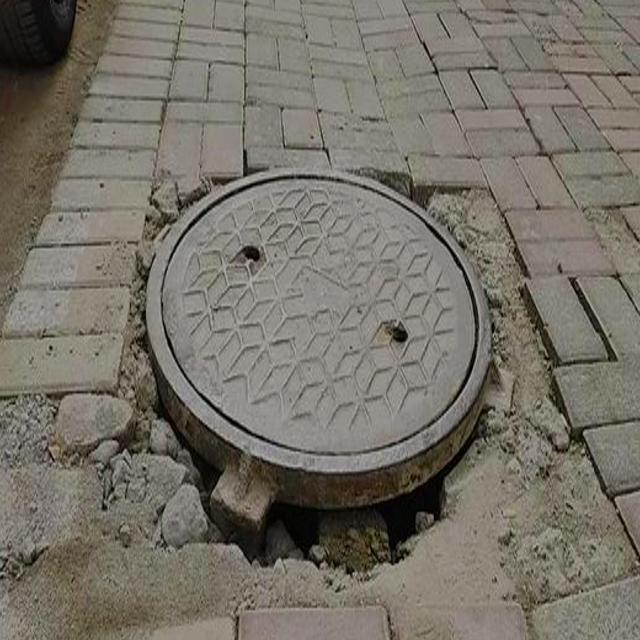circle: (56, 167, 627, 605)
